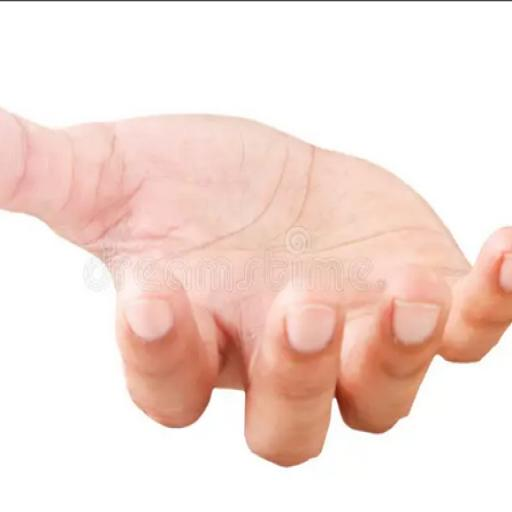Open_Palm: (2, 44, 512, 498)
